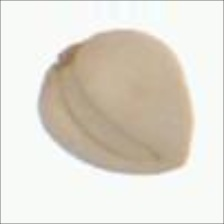L5: (59, 71, 162, 162), (44, 38, 92, 80)
L6: (35, 26, 195, 178)
